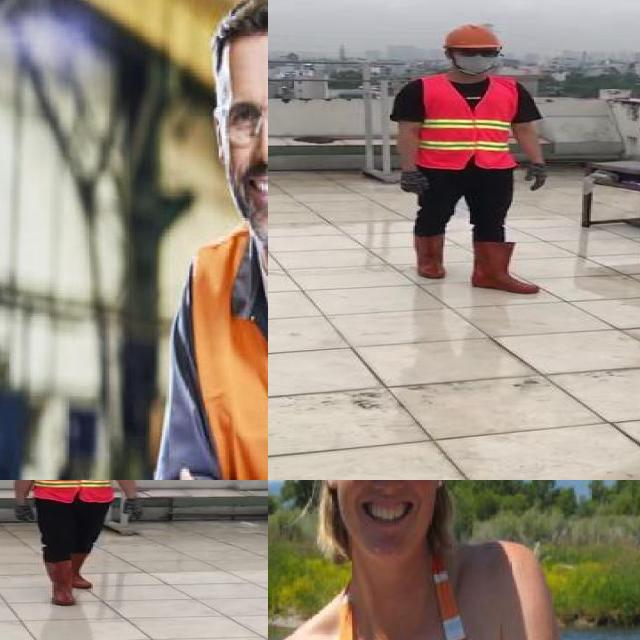No_Ear-Protection: (205, 104, 227, 174)
boots: (468, 239, 543, 292), (43, 556, 77, 606), (411, 234, 447, 278), (70, 550, 98, 589)
face_mask: (453, 46, 498, 72)
face_nomask: (328, 480, 447, 533), (230, 120, 268, 246)
glasses: (227, 101, 268, 146), (453, 44, 503, 58)
hand_glove: (397, 170, 431, 195), (520, 162, 548, 191)
head_helmet: (438, 20, 506, 49)
head_nohelmet: (212, 0, 268, 75)
person: (268, 480, 588, 640), (387, 21, 553, 298), (7, 480, 149, 609)
vest: (420, 75, 522, 169), (32, 480, 112, 501)
